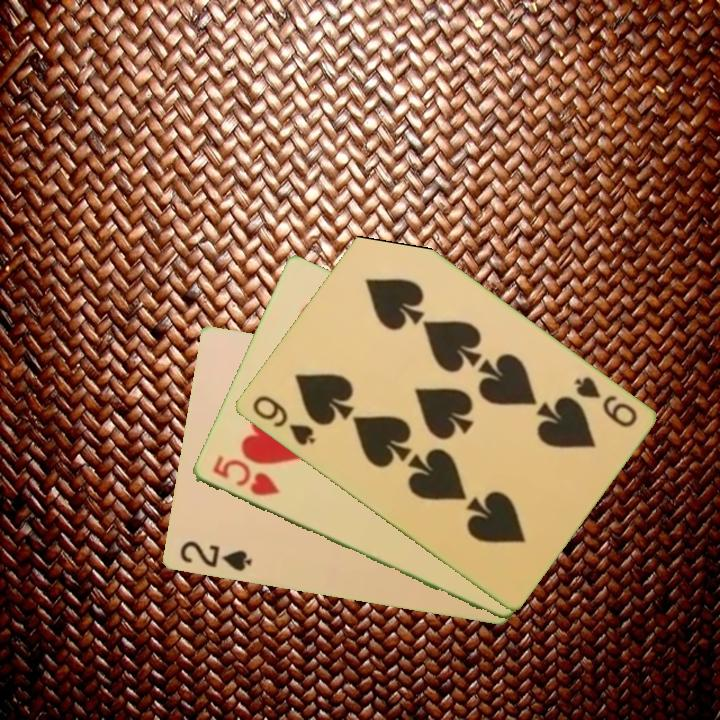2s: (176, 538, 254, 575)
5h: (209, 452, 282, 500)
9s: (570, 373, 640, 431), (248, 392, 318, 449)
